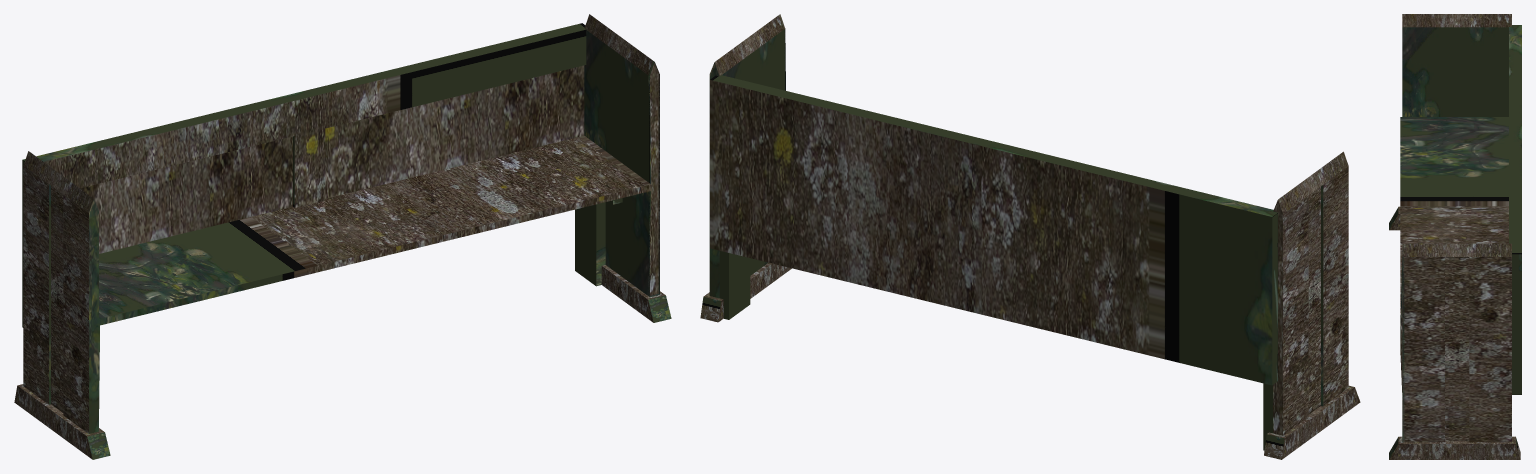
File: church_chair.FBX
The picture shows the model from 3 angles, left to right: view 1: azimuth 30°, elevation 25°; view 2: azimuth 150°, elevation 25°; view 3: azimuth 270°, elevation 25°; orthographic projection. The views are drawn at different scales.
Visible parts, largest first — view 1: Box006; view 2: Box006; view 3: Box006.
Part boxes in pixels (<box>): Box006: <box>14,14,671,459</box>; Box006: <box>700,14,1360,459</box>; Box006: <box>1389,14,1521,459</box>.
Size of the model in its own units: 28.34 by 11.85 by 6.71.
